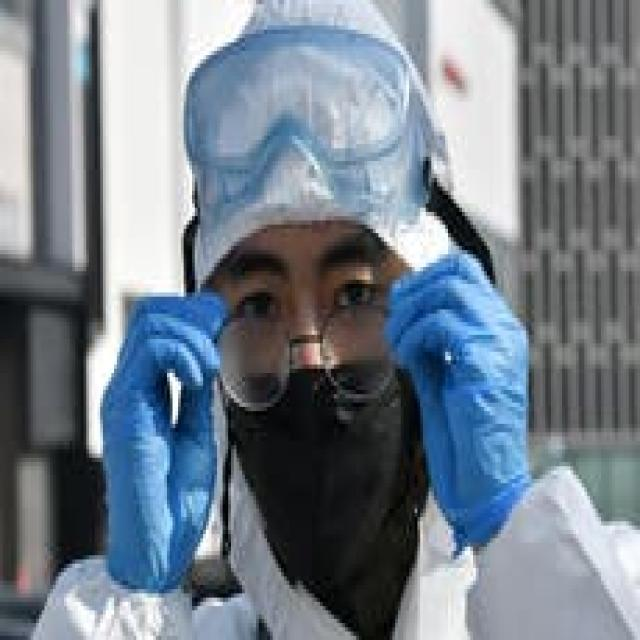Gloves: (376, 246, 534, 551), (95, 284, 231, 602)
Goggles: (178, 9, 423, 238)
Mask: (228, 356, 434, 640)
